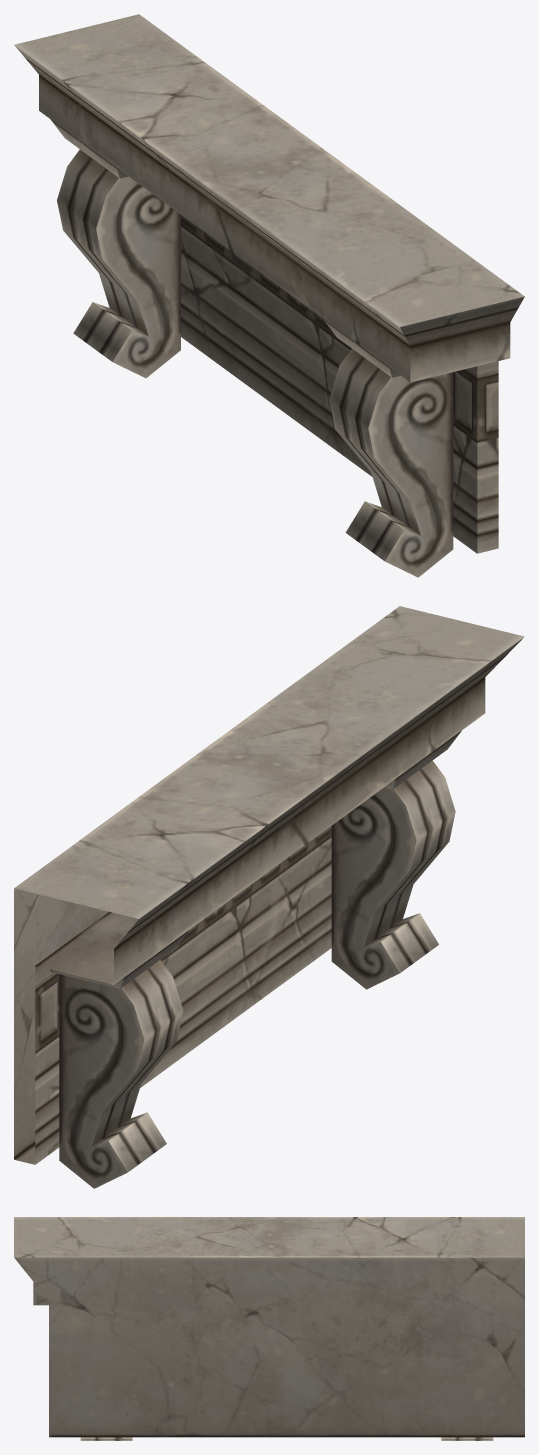
Rendered from cornice02_endR.fbx.
3 renders of one model, top to bottom at view 1: azimuth 30°, elevation 25°; view 2: azimuth 150°, elevation 25°; view 3: azimuth 270°, elevation 25°, orthographic. The views are drawn at different scales.
Visible parts, largest first — view 1: cornice02_endR; view 2: cornice02_endR; view 3: cornice02_endR.
Boxes of the visible parts, left/top/right/bottom form: cornice02_endR: left=14, top=14, right=524, bottom=577; cornice02_endR: left=14, top=606, right=524, bottom=1188; cornice02_endR: left=14, top=1217, right=524, bottom=1440.
Bounding box in the file's own units: 60.38 × 140 × 322.
